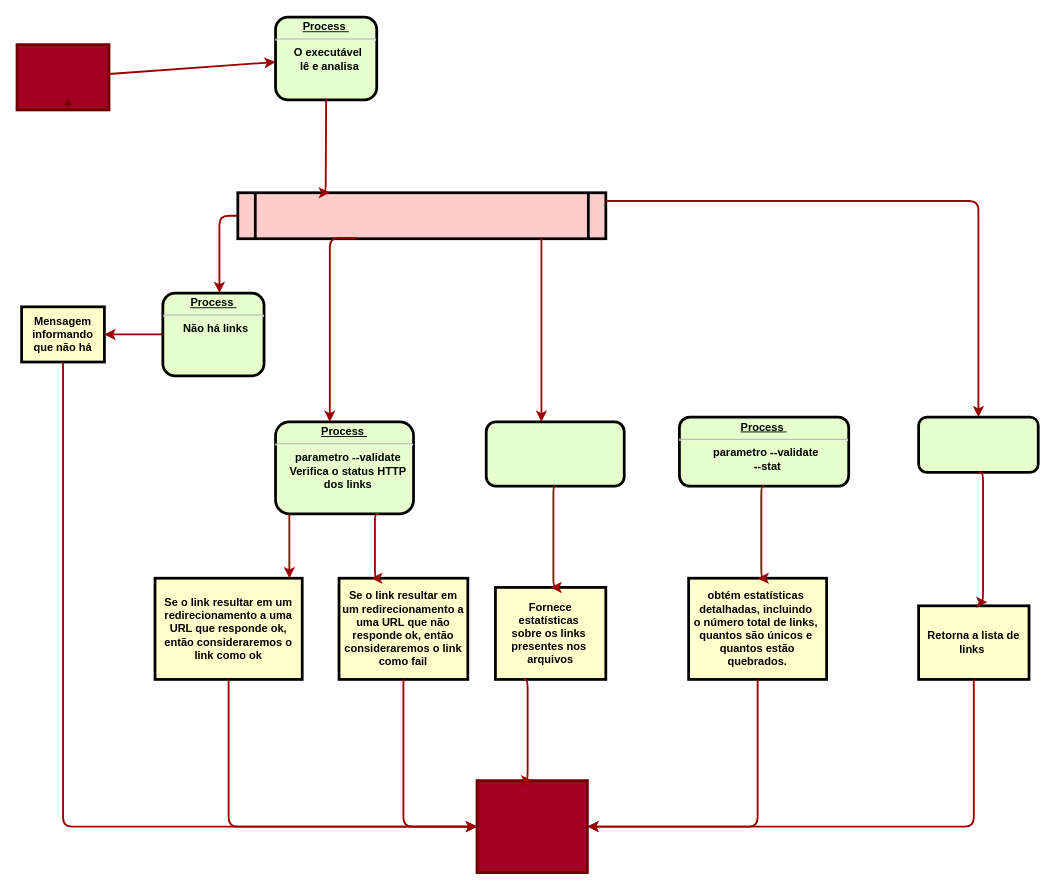
Some shapes in this 1055 by 890 pixel diagram are drawn without their labels. Each missing label, with the box of its shape:
Arquivo Markdow: (15, 43, 110, 111)
Fim: (475, 779, 588, 874)
Process parametro --stat: (484, 420, 625, 487)
Process Sem parâmetro: (917, 415, 1039, 473)
Retorna uma lista com links de arquivos Markdown (.md): (236, 191, 607, 240)
